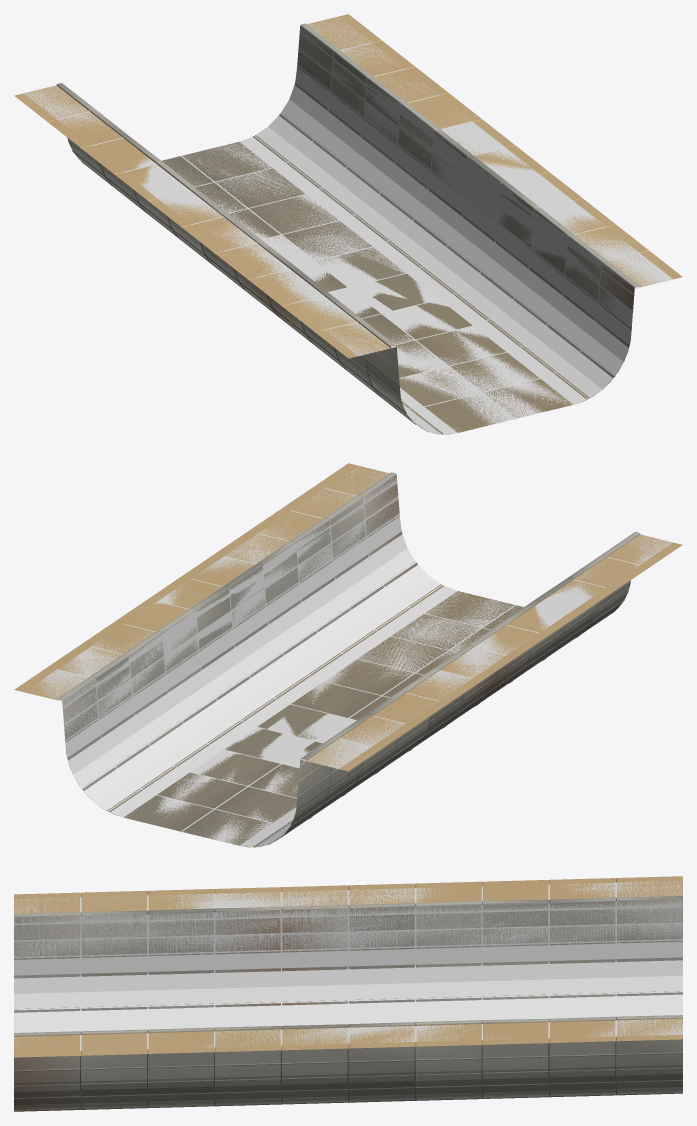
File: half_pipe_concrete.glb
3 renders of one model, top to bottom at view 1: azimuth 30°, elevation 25°; view 2: azimuth 150°, elevation 25°; view 3: azimuth 270°, elevation 25°, orthographic.
Parts seen in each view (by area): view 1: half_pipe_concrete-col, half_pipe_concrete; view 2: half_pipe_concrete, half_pipe_concrete-col; view 3: half_pipe_concrete, half_pipe_concrete-col.
Boxes of the visible parts, x1=… form: half_pipe_concrete-col: x1=24, y1=17, x2=672, y2=434; half_pipe_concrete: x1=14, y1=14, x2=682, y2=434; half_pipe_concrete: x1=14, y1=463, x2=682, y2=847; half_pipe_concrete-col: x1=35, y1=466, x2=672, y2=847; half_pipe_concrete: x1=14, y1=876, x2=682, y2=1111; half_pipe_concrete-col: x1=14, y1=881, x2=682, y2=1051.
Bounding box in the file's own units: 34.64 × 11.98 × 60.
